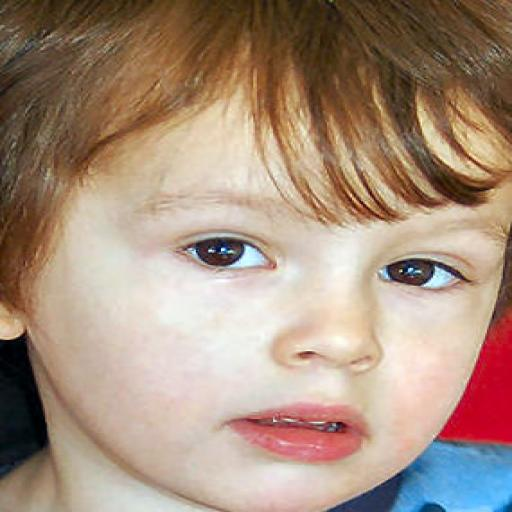Autism: (23, 18, 512, 508)
